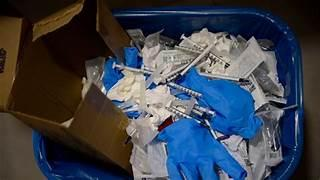Glove: (182, 68, 261, 138), (157, 119, 245, 179), (102, 58, 123, 91), (124, 47, 140, 67)
